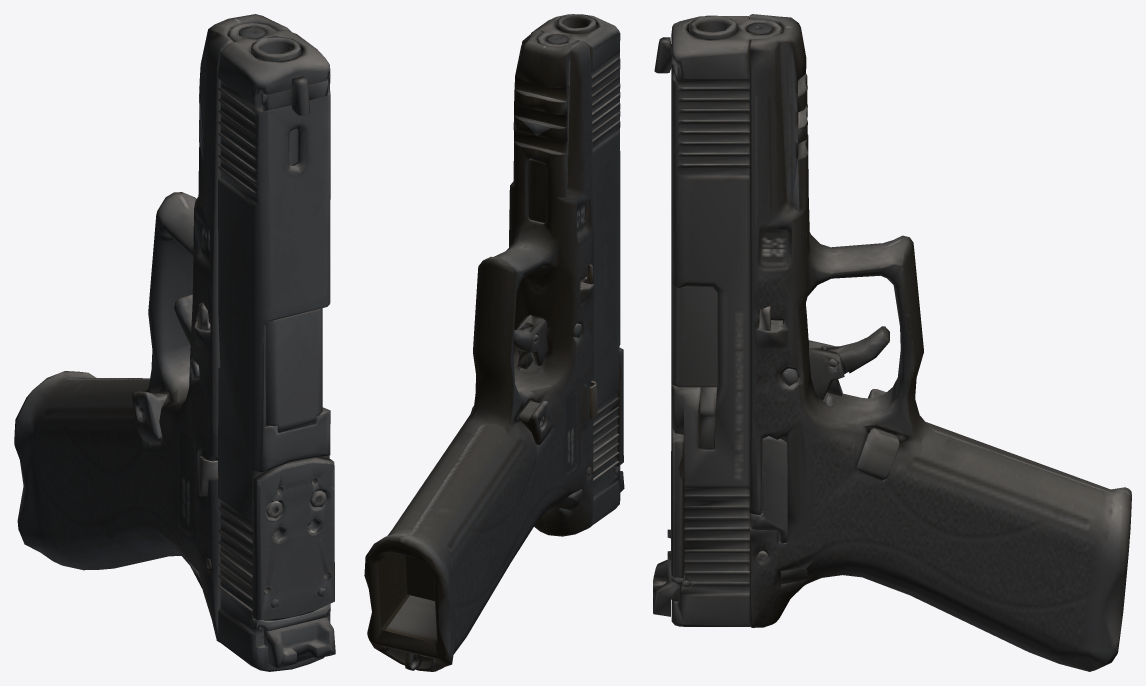
The model's file is GlockNoMag.fbx.
3 views of the same model, side by side, from view 1: azimuth 30°, elevation 25°; view 2: azimuth 150°, elevation 25°; view 3: azimuth 270°, elevation 25° (orthographic). The views are drawn at different scales.
Parts seen in each view (by area): view 1: Glock; view 2: Glock; view 3: Glock.
Part boxes in pixels (<box>): Glock: <box>14,14,335,671</box>; Glock: <box>364,14,624,671</box>; Glock: <box>653,14,1131,671</box>.
Size of the model in its own units: 0.0266 by 0.1627 by 0.1099.
